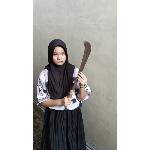Golok: (66, 37, 96, 99)
